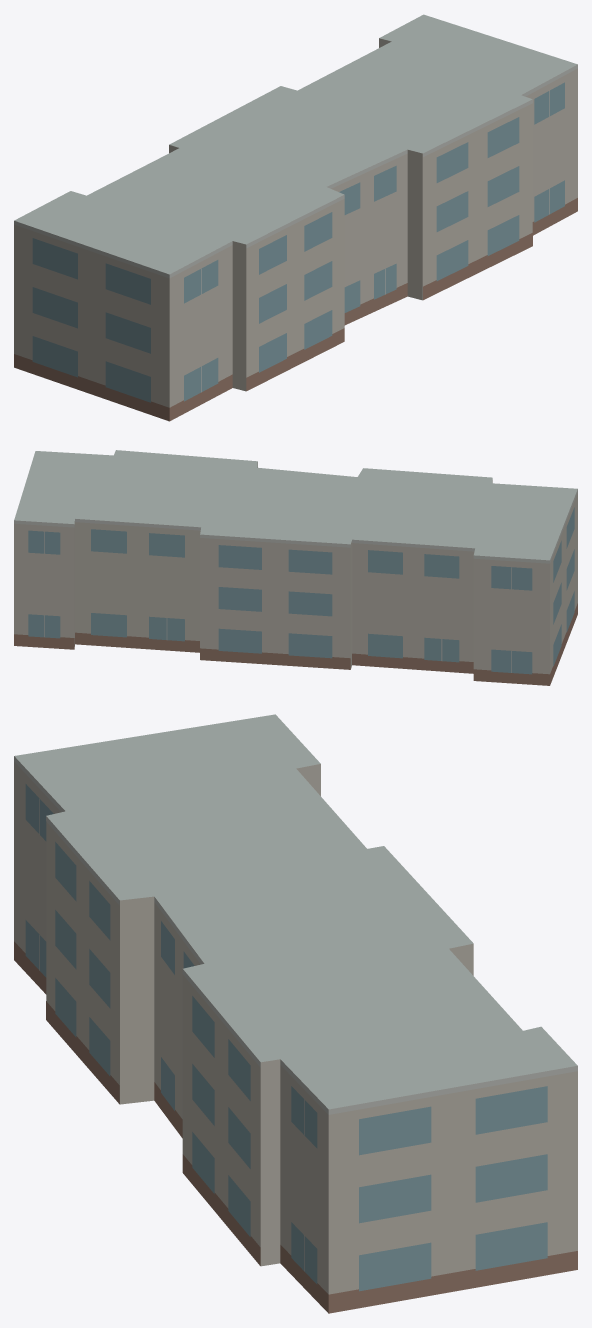
The model's file is survey-upis-32841820.glb.
3 renders of one model, top to bottom at view 1: azimuth 30°, elevation 25°; view 2: azimuth 150°, elevation 25°; view 3: azimuth 270°, elevation 25°, orthographic. The views are drawn at different scales.
Parts seen in each view (by area): view 1: survey-upis-32841820.tmp; view 2: survey-upis-32841820.tmp; view 3: survey-upis-32841820.tmp.
Part boxes in pixels (left/top/right/bottom): survey-upis-32841820.tmp: left=14, top=14, right=577, bottom=421; survey-upis-32841820.tmp: left=14, top=450, right=577, bottom=685; survey-upis-32841820.tmp: left=14, top=714, right=577, bottom=1313.
Bounding box in the file's own units: 38 × 9.15 × 22.92.
